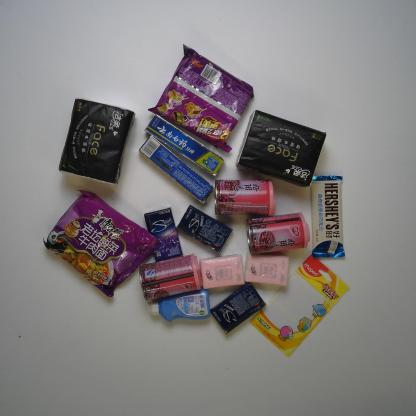Canned Food: (137, 255, 203, 304), (246, 212, 311, 254), (215, 179, 276, 218)
Chocolate: (307, 174, 346, 258)
Gum: (210, 281, 268, 336), (176, 206, 233, 253), (143, 207, 184, 263)
Instant Noodles: (40, 193, 159, 297), (146, 43, 252, 154)
Personal Hygiene: (144, 113, 226, 178), (140, 137, 212, 205), (149, 290, 211, 322)
Stationery: (250, 254, 350, 359)
Tissue: (238, 110, 328, 186), (59, 98, 135, 184), (201, 254, 246, 290), (245, 252, 290, 286)
